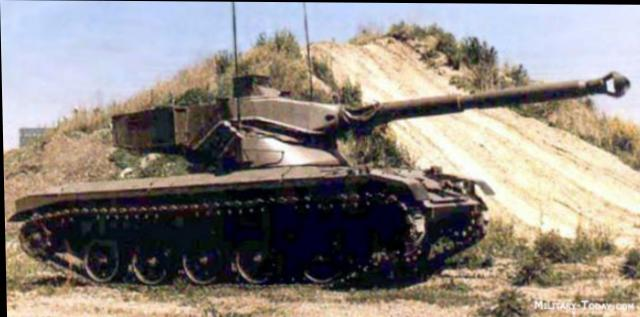tank: (14, 82, 488, 278)
